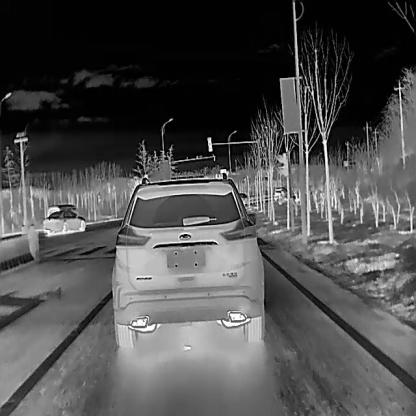car: (110, 170, 264, 348), (42, 208, 86, 236), (272, 186, 288, 201), (238, 193, 250, 207)
